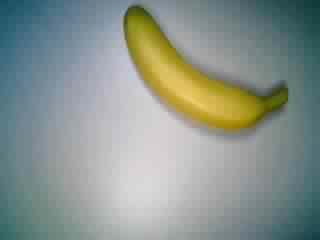banana: (118, 3, 293, 137)
